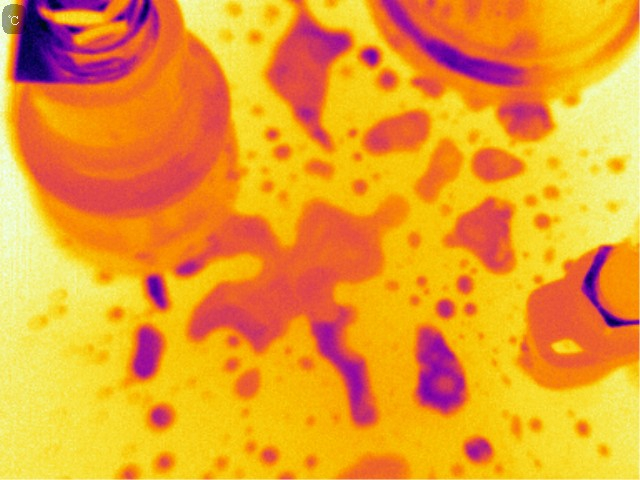Water: (188, 190, 412, 428), (270, 6, 352, 148), (445, 199, 532, 275), (412, 322, 471, 412), (361, 110, 434, 155), (569, 407, 612, 459), (328, 455, 412, 480), (429, 138, 460, 200), (473, 147, 527, 181), (500, 405, 550, 441), (436, 272, 474, 319), (498, 104, 551, 137), (386, 270, 430, 308), (134, 327, 167, 375), (542, 242, 583, 276), (138, 275, 175, 309), (464, 435, 493, 467), (303, 411, 343, 431), (224, 160, 256, 184), (234, 372, 262, 398), (211, 1, 250, 18), (148, 406, 175, 430), (413, 75, 439, 98), (254, 167, 275, 195), (403, 225, 426, 250), (306, 160, 334, 180), (357, 45, 380, 69), (601, 192, 624, 216), (241, 25, 264, 46), (606, 153, 627, 175), (447, 458, 469, 478), (176, 261, 204, 276), (376, 71, 398, 90), (258, 445, 280, 463), (271, 146, 297, 161), (275, 184, 292, 206), (532, 212, 551, 230), (352, 176, 371, 193), (303, 453, 320, 469), (120, 463, 137, 478), (156, 454, 172, 469), (277, 470, 298, 478)
